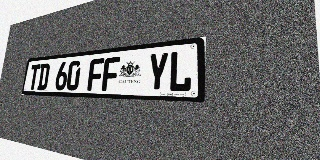0: (66, 60, 81, 91)
6: (54, 61, 69, 90)
D: (37, 63, 50, 90)
F: (101, 57, 120, 91), (87, 58, 104, 91)
L: (168, 50, 193, 92)
T: (28, 64, 41, 90)
Y: (146, 52, 169, 92)
